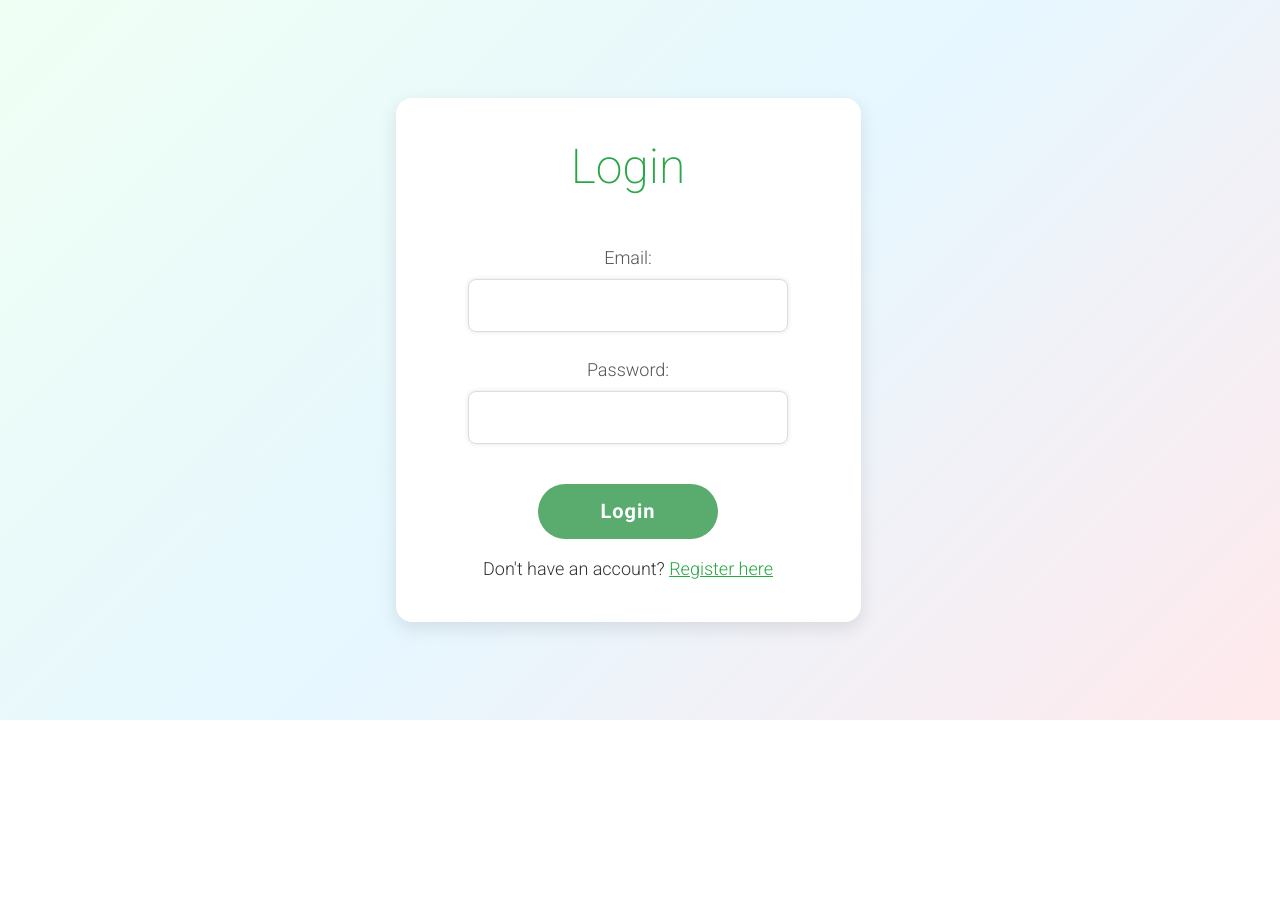
Scenario: Login Component › shows error when fields are empty
Click the button "Login" at coordinates (628, 511), box [538, 484, 718, 539]
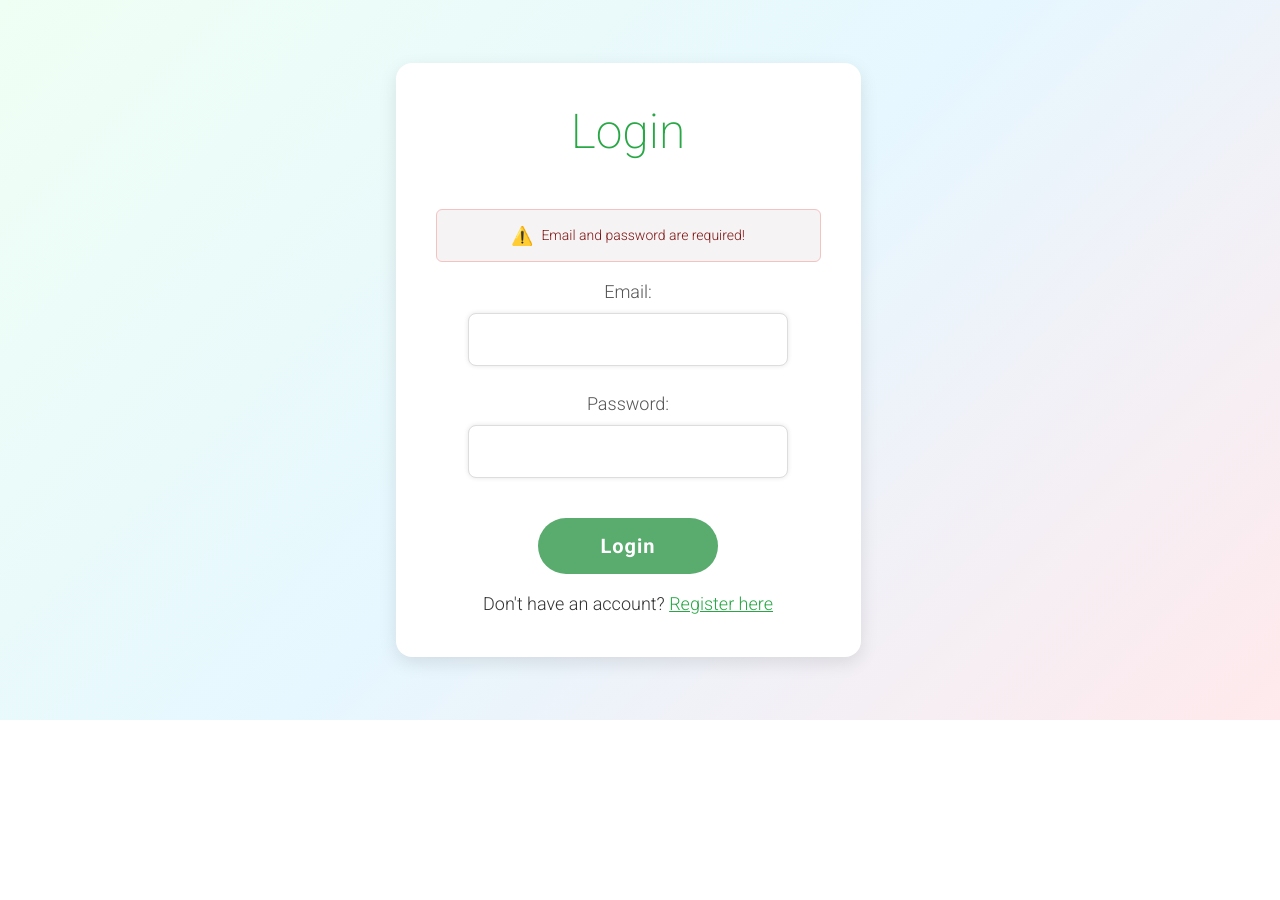
Now the text "Email and password are required!" is shown, box [541, 225, 745, 246]
